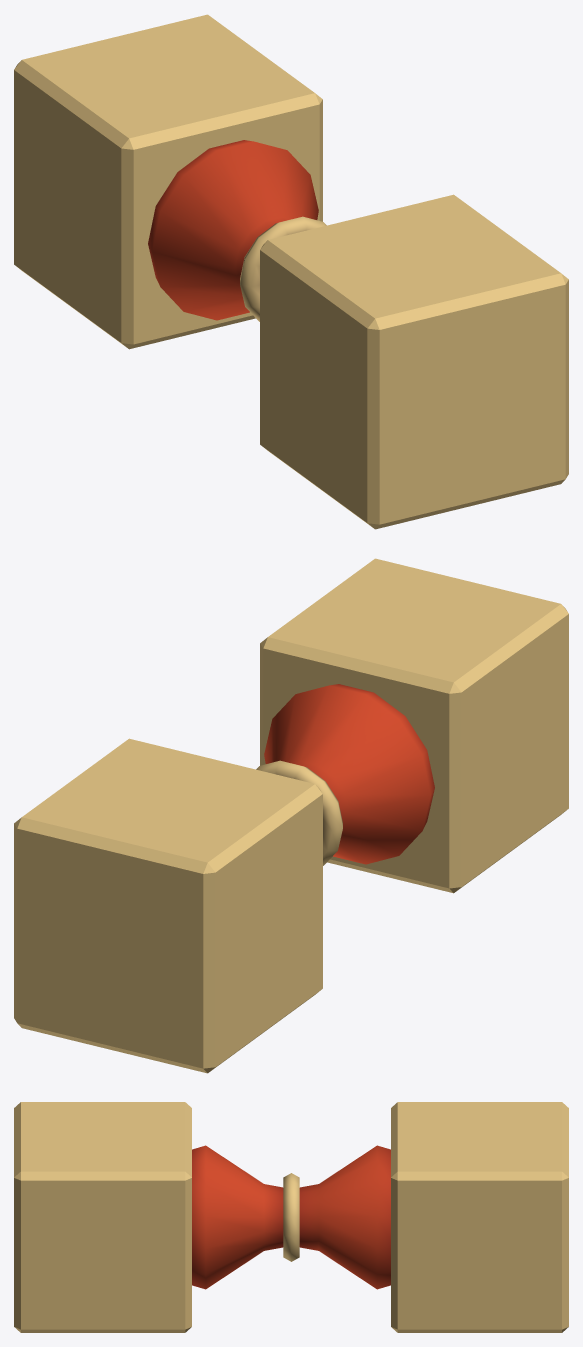
Rendered from R4C_STRUT_STANDARD_LOD1.fbx.
3 renders of one model, top to bottom at view 1: azimuth 30°, elevation 25°; view 2: azimuth 150°, elevation 25°; view 3: azimuth 270°, elevation 25°, orthographic. The views are drawn at different scales.
Parts seen in each view (by area): view 1: R4C_STRUT_STANDARD_LOD1; view 2: R4C_STRUT_STANDARD_LOD1; view 3: R4C_STRUT_STANDARD_LOD1.
Part boxes in pixels (x1,y1,x2,y2): R4C_STRUT_STANDARD_LOD1: (14,14,568,529); R4C_STRUT_STANDARD_LOD1: (14,558,568,1073); R4C_STRUT_STANDARD_LOD1: (14,1102,568,1332).
Bounding box in the file's own units: 0.52 × 0.52 × 1.62.
